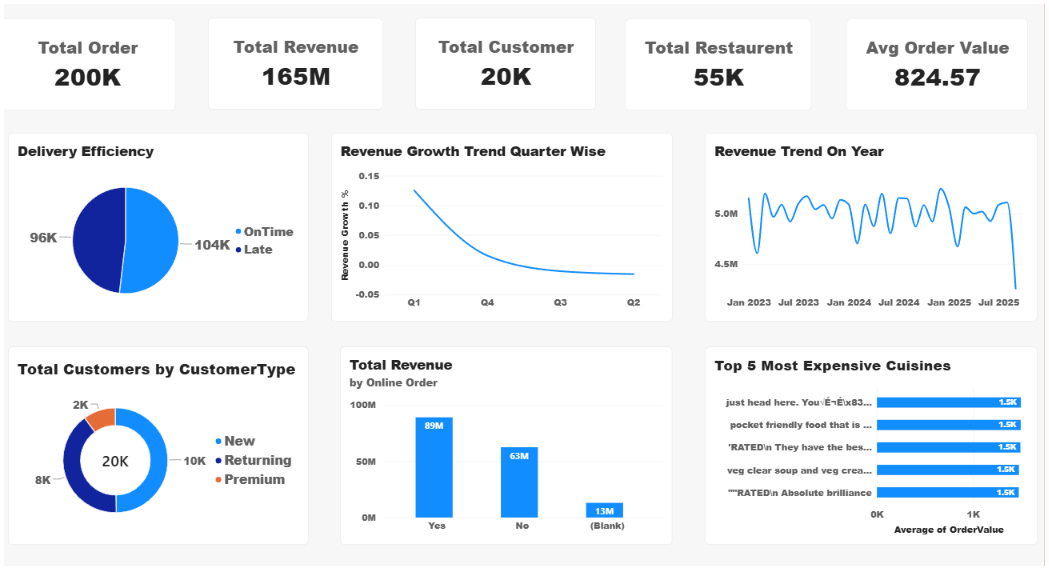

The dashboard page shown, as its layout file describes it:
{"tool":"powerbi","page":{"name":"General Overview Analysis Dashboard","canvas":[1920,1080],"ordinal":0},"visuals":[{"type":"cardVisual","fields":{"Data":["Customers.Total Order"]},"box":[0,61.7,319,166.7],"z":0},{"type":"cardVisual","fields":{"Data":["Orders.Total Revenue"]},"box":[378.7,59.7,317,166.7],"z":1},{"type":"cardVisual","fields":{"Data":["Customers.Total Customer"]},"box":[753.3,59.7,327.3,166.7],"z":2},{"type":"cardVisual","fields":{"Data":["Orders.Total Restaurent"]},"box":[1132.1,61.7,337.6,166.7],"z":3},{"type":"cardVisual","fields":{"Data":["Orders.Avg Order Value"]},"box":[1533.5,61.7,329.3,166.7],"z":4},{"type":"pieChart","title":"Delivery Efficiency","fields":{"Category":["Orders.Delivery type"],"Y":["Customers.Total Order"]},"box":[16.5,267.6,543.4,341.7],"z":5},{"type":"lineChart","title":"Revenue Growth Trend Quarter Wise","fields":{"Category":["DateTable.Quarter"],"Y":["Customers.Revenue Growth %"]},"box":[601,267.6,617.5,341.7],"z":6},{"type":"lineChart","title":"Revenue Trend On Year","fields":{"Category":["DateTable.Date.Variation.Date Hierarchy.Year","DateTable.Date.Variation.Date Hierarchy.Month"],"Y":["Orders.Total Revenue"]},"box":[1278.2,267.6,601,341.7],"z":8},{"type":"columnChart","fields":{"Category":["Restaurants.Online Order"],"Y":["Orders.Total Revenue"]},"box":[617.5,654.5,601,358.1],"z":10},{"type":"donutChart","fields":{"Category":["Customers.CustomerType"],"Y":["Orders.Total Customers"]},"box":[16.5,654.5,543.4,358.1],"z":12},{"type":"barChart","title":"Top 5 Most Expensive Cuisines","fields":{"Category":["Restaurants.primary Cuisines"],"Y":["Avg(Orders.OrderValue)"]},"box":[1278,655,601,358],"z":13}]}

Visuals, with their boxes on the page's 1920x1080 design canvas (x1, y1, x2, y2). These are canvas units, not pixel positions in the 1049x570 screenshot, which may show the page scaled, cropped or inside an application window:
cardVisual - Customers.Total Order: 0/62/319/228
cardVisual - Orders.Total Revenue: 379/60/696/226
cardVisual - Customers.Total Customer: 753/60/1081/226
cardVisual - Orders.Total Restaurent: 1132/62/1470/228
cardVisual - Orders.Avg Order Value: 1534/62/1863/228
"Delivery Efficiency" pieChart: 16/268/560/609
"Revenue Growth Trend Quarter Wise" lineChart: 601/268/1218/609
"Revenue Trend On Year" lineChart: 1278/268/1879/609
columnChart - Restaurants.Online Order x Orders.Total Revenue: 618/654/1218/1013
donutChart - Customers.CustomerType x Orders.Total Customers: 16/654/560/1013
"Top 5 Most Expensive Cuisines" barChart: 1278/655/1879/1013
